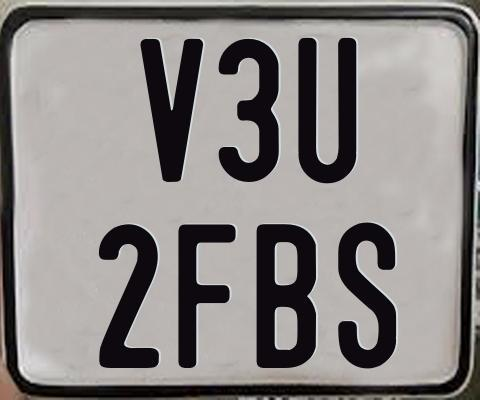2: (99, 221, 160, 366)
3: (215, 37, 280, 182)
B: (255, 221, 317, 368)
F: (176, 223, 235, 368)
S: (335, 222, 393, 372)
U: (298, 38, 359, 187)
V: (139, 37, 208, 186)
